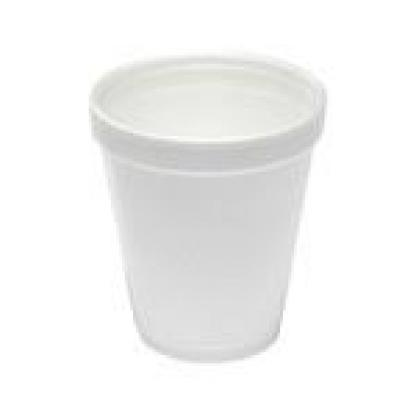paper: (83, 53, 325, 358)
